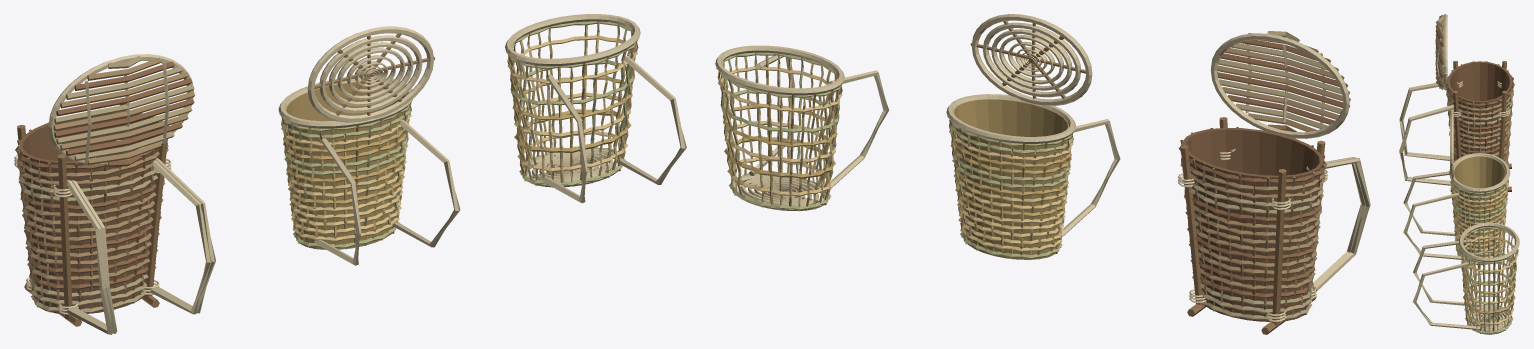
The model's file is yeni çantalar .fbx.
The picture shows the model from 3 angles, left to right: view 1: azimuth 30°, elevation 25°; view 2: azimuth 150°, elevation 25°; view 3: azimuth 270°, elevation 25°; orthographic projection. The views are drawn at different scales.
Visible parts, largest first — view 1: Sepet içi ve tabanı.001, Bükülü lif omuz askısı.008, Örülü ağız çemberi.003, Kapak bağ dokuması.002, Örülü ağız çemberi.005; view 2: Sepet içi ve tabanı.001, Bükülü lif omuz askısı.008, Örülü ağız çemberi.003, Kapak bağ dokuması.002, Örülü ağız çemberi.005; view 3: Sepet içi ve tabanı.001, Örülü ağız çemberi.003, Bükülü lif omuz askısı.008, Kapak bağ dokuması.002, Örülü ağız çemberi.005.
Boxes of the visible parts, x1,y1,x2,y2 form: Sepet içi ve tabanı.001: (14, 103, 215, 334); Bükülü lif omuz askısı.008: (278, 76, 460, 265); Örülü ağız çemberi.003: (505, 14, 686, 203); Kapak bağ dokuması.002: (48, 54, 195, 166); Örülü ağız çemberi.005: (307, 26, 434, 122); Sepet içi ve tabanı.001: (1178, 117, 1370, 334); Bükülü lif omuz askısı.008: (946, 94, 1120, 259); Örülü ağız çemberi.003: (715, 45, 889, 211); Kapak bağ dokuması.002: (1210, 31, 1350, 138); Örülü ağız çemberi.005: (970, 14, 1092, 105); Sepet içi ve tabanı.001: (1399, 61, 1514, 191); Örülü ağız çemberi.003: (1412, 222, 1519, 334); Bükülü lif omuz askısı.008: (1403, 153, 1510, 265); Kapak bağ dokuması.002: (1435, 14, 1447, 90); Örülü ağız çemberi.005: (1450, 113, 1453, 179).
Bounding box in the file's own units: 86.83 × 35.34 × 24.04.
